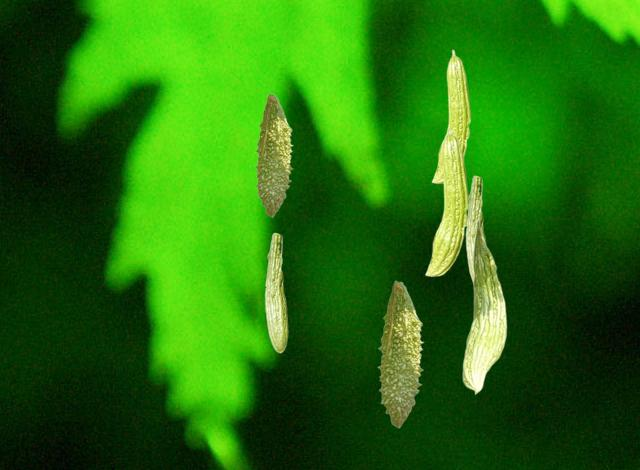ampalaya: (462, 218, 507, 395), (377, 280, 424, 428), (424, 127, 469, 277), (431, 49, 471, 184), (254, 93, 294, 218), (264, 232, 288, 353), (465, 175, 486, 280)
